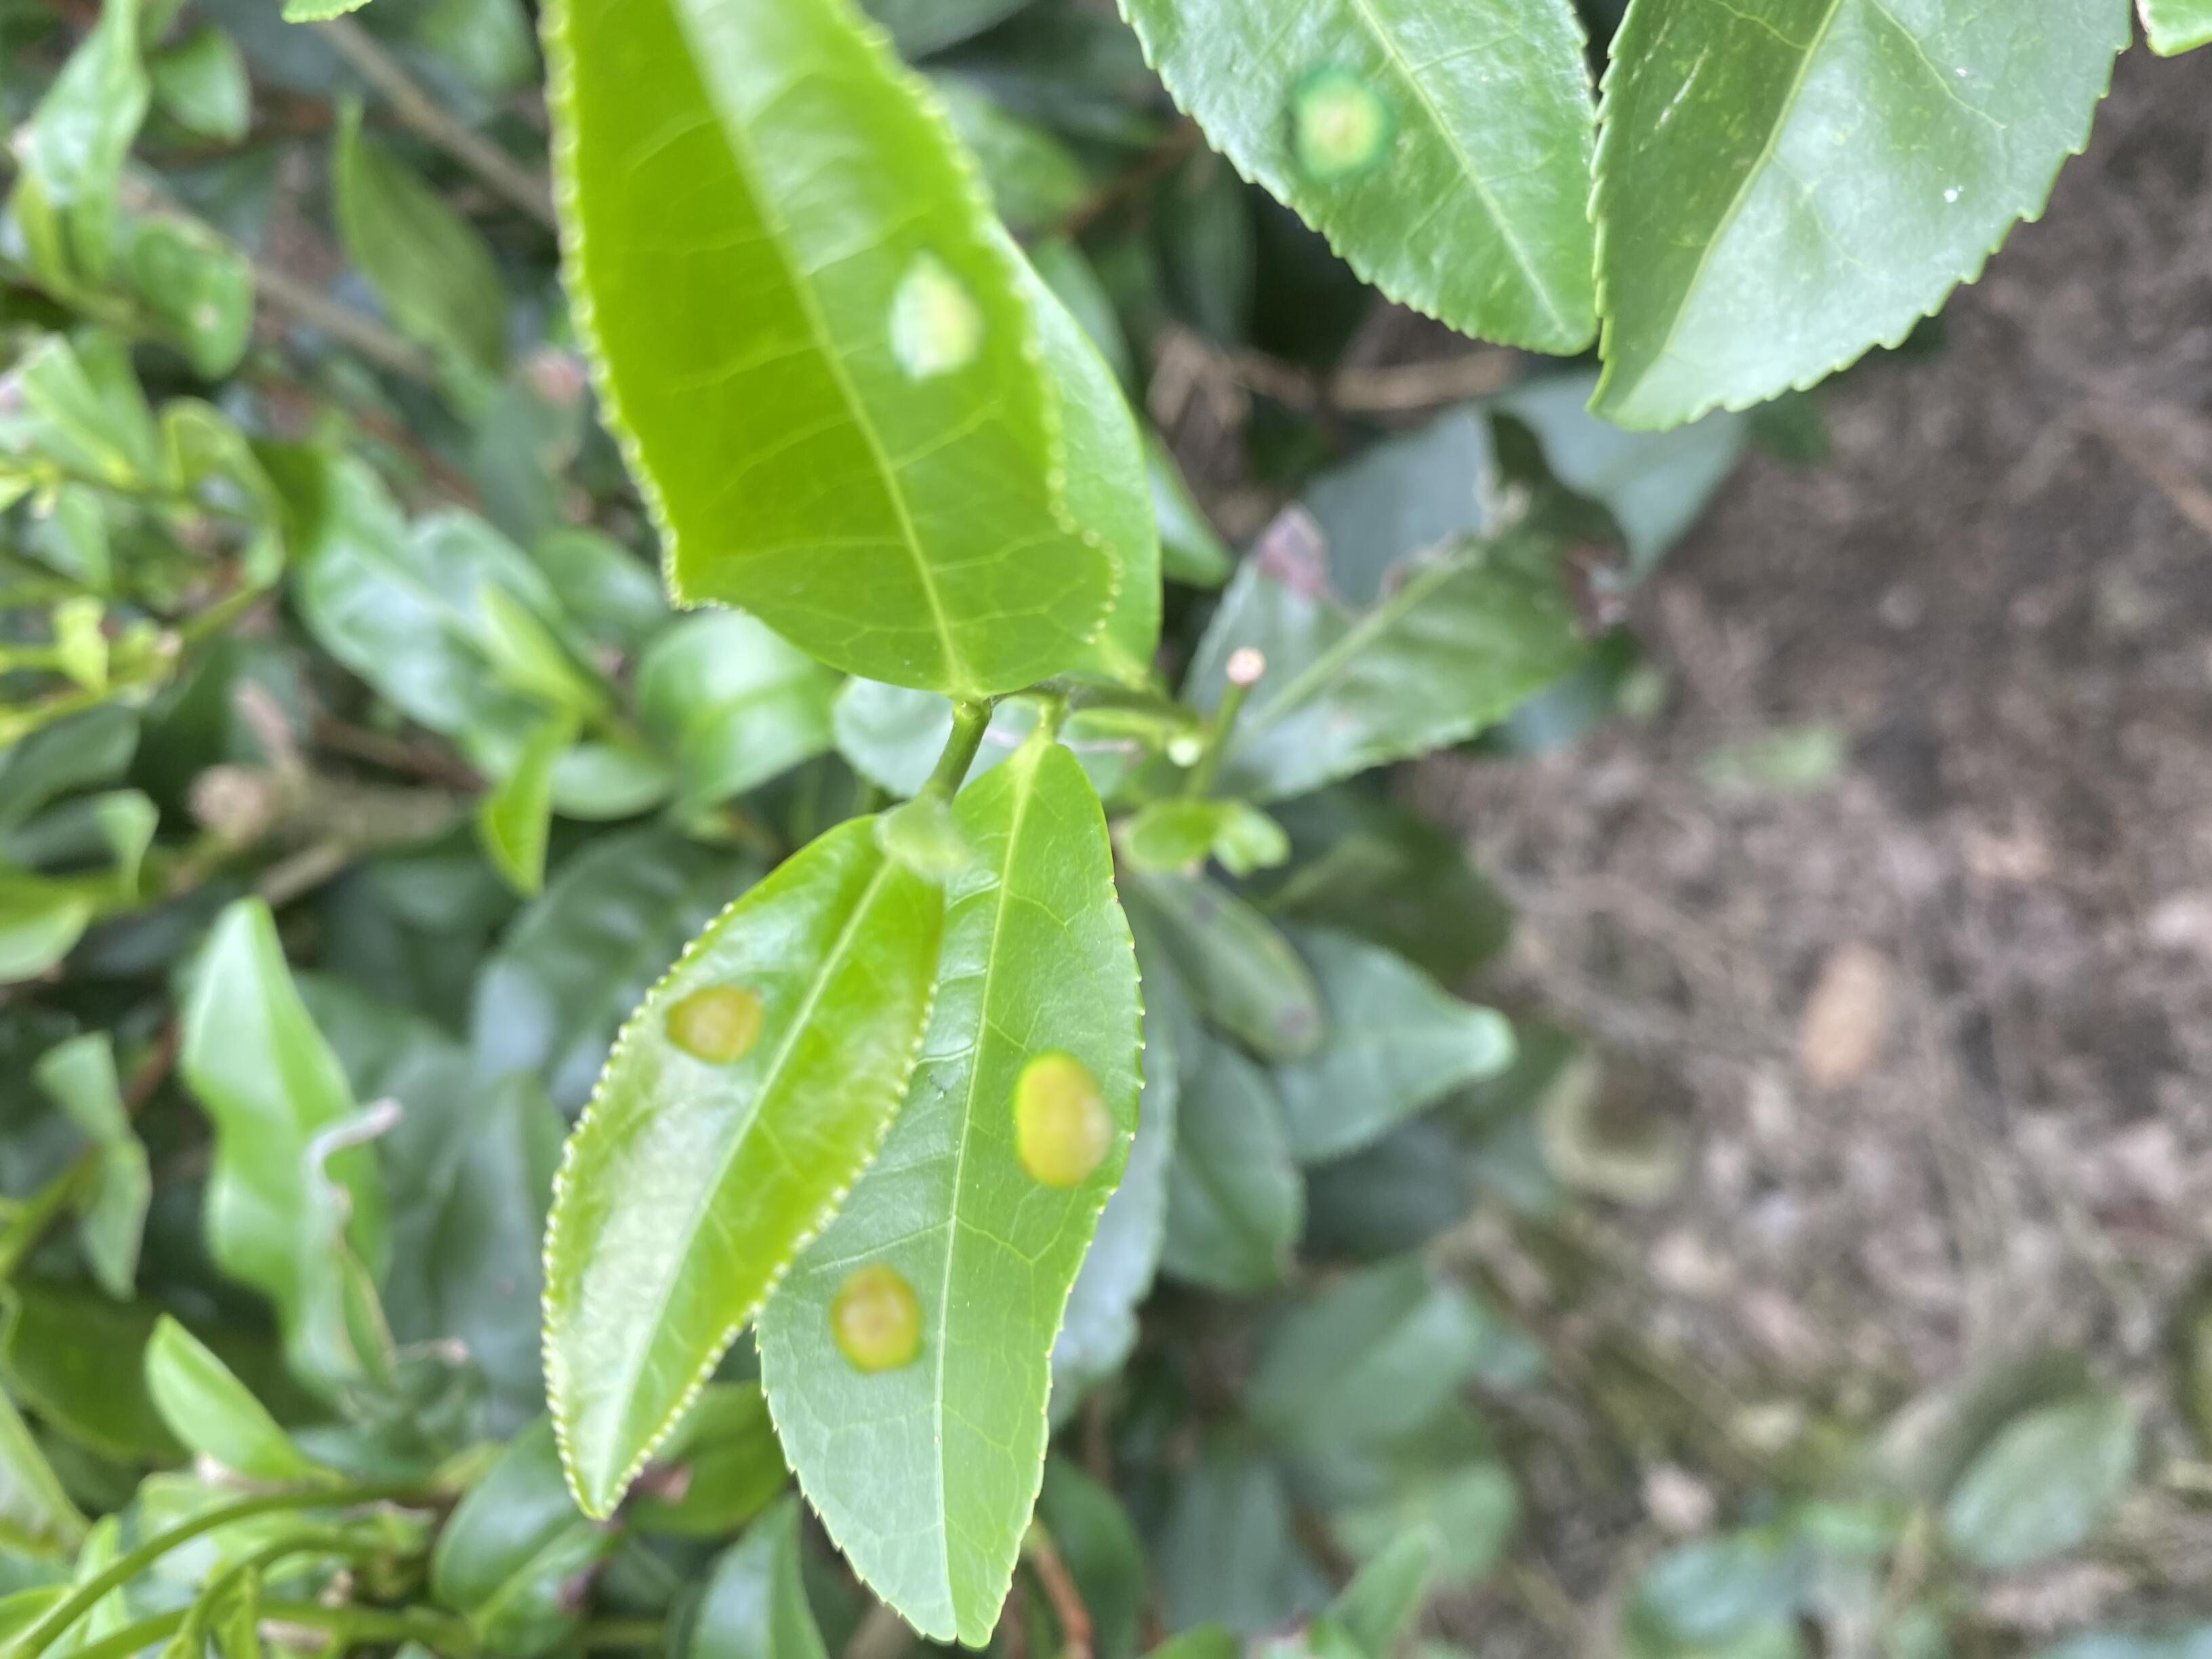chabing_high: (752, 742, 1148, 1647)
chabing_low: (540, 3, 1120, 702), (535, 810, 949, 1527), (1118, 2, 1597, 354)
